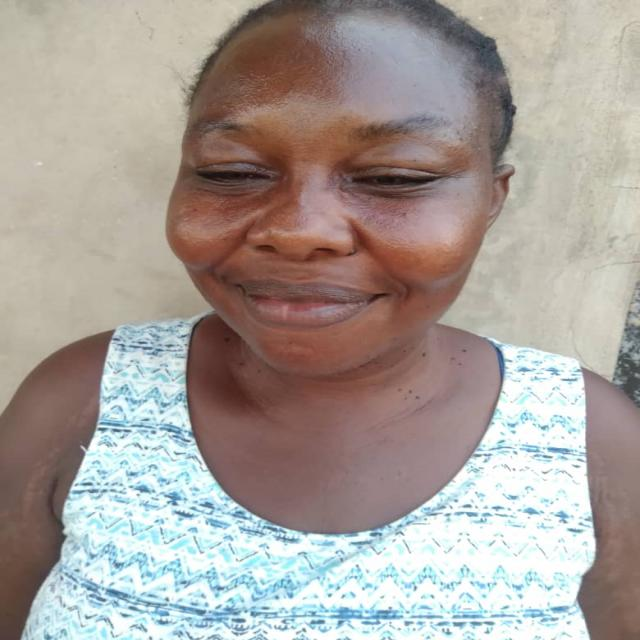happy: (160, 0, 529, 386)
